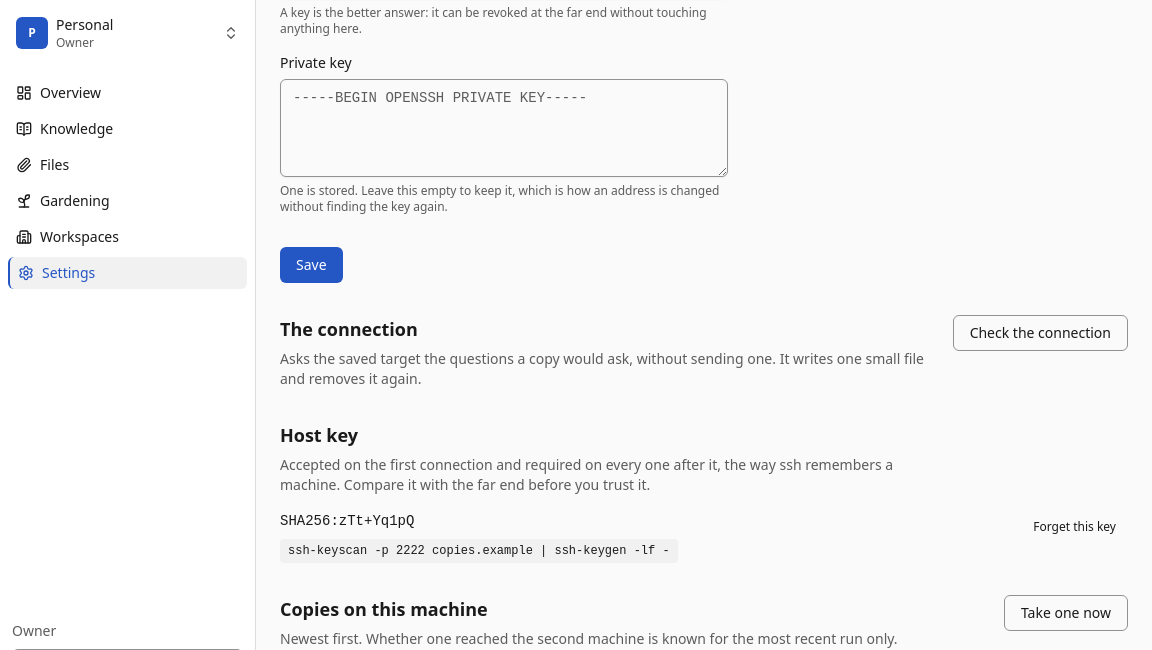
Scenario: asking the target whether a copy would arrive › reports all three stages when they worked
(page scrolled)
Click the button "Check the connection" at coordinates (1040, 333), box [953,315,1128,351]
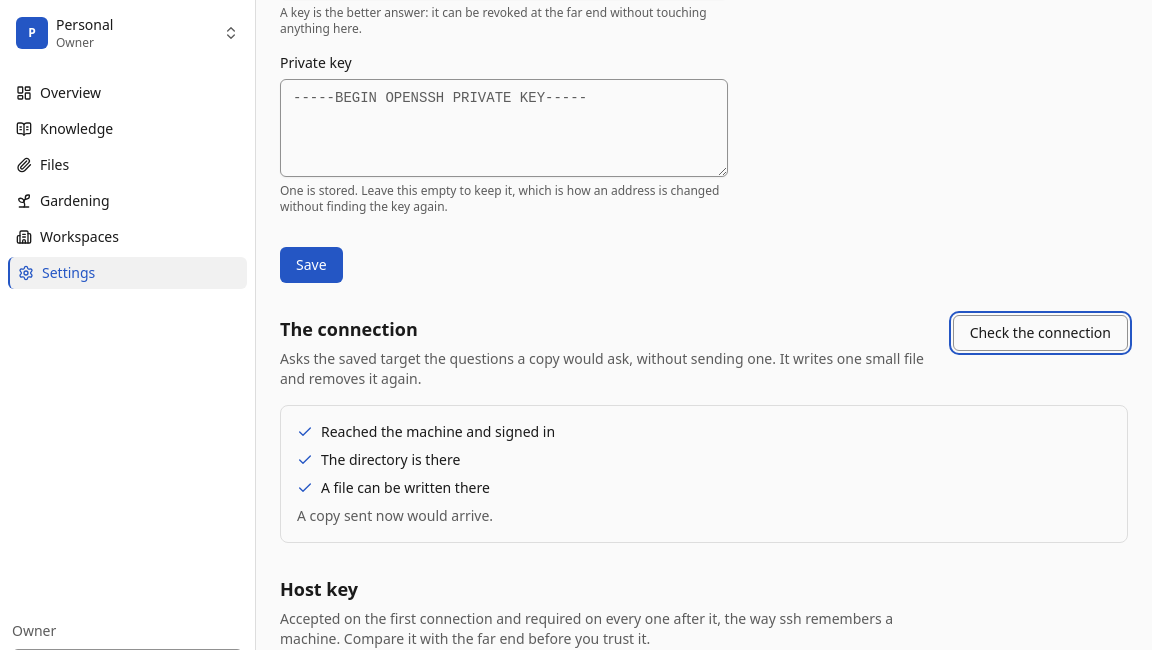
Expected: the text "Reached the machine and signed in" is shown, [321,422,555,442]
Expected: the text "The directory is there" is shown, [321,450,460,470]
Expected: the text "A file can be written there" is shown, [321,478,490,498]
